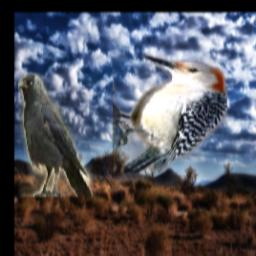Crow: (18, 74, 93, 198)
Woodpecker: (113, 56, 227, 174)
